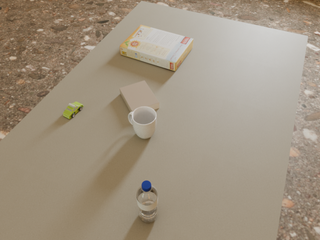book: (120, 81, 159, 112)
bottle: (137, 181, 158, 222)
box: (120, 25, 193, 71)
cup: (128, 107, 157, 139)
toy_car: (63, 102, 83, 119)
